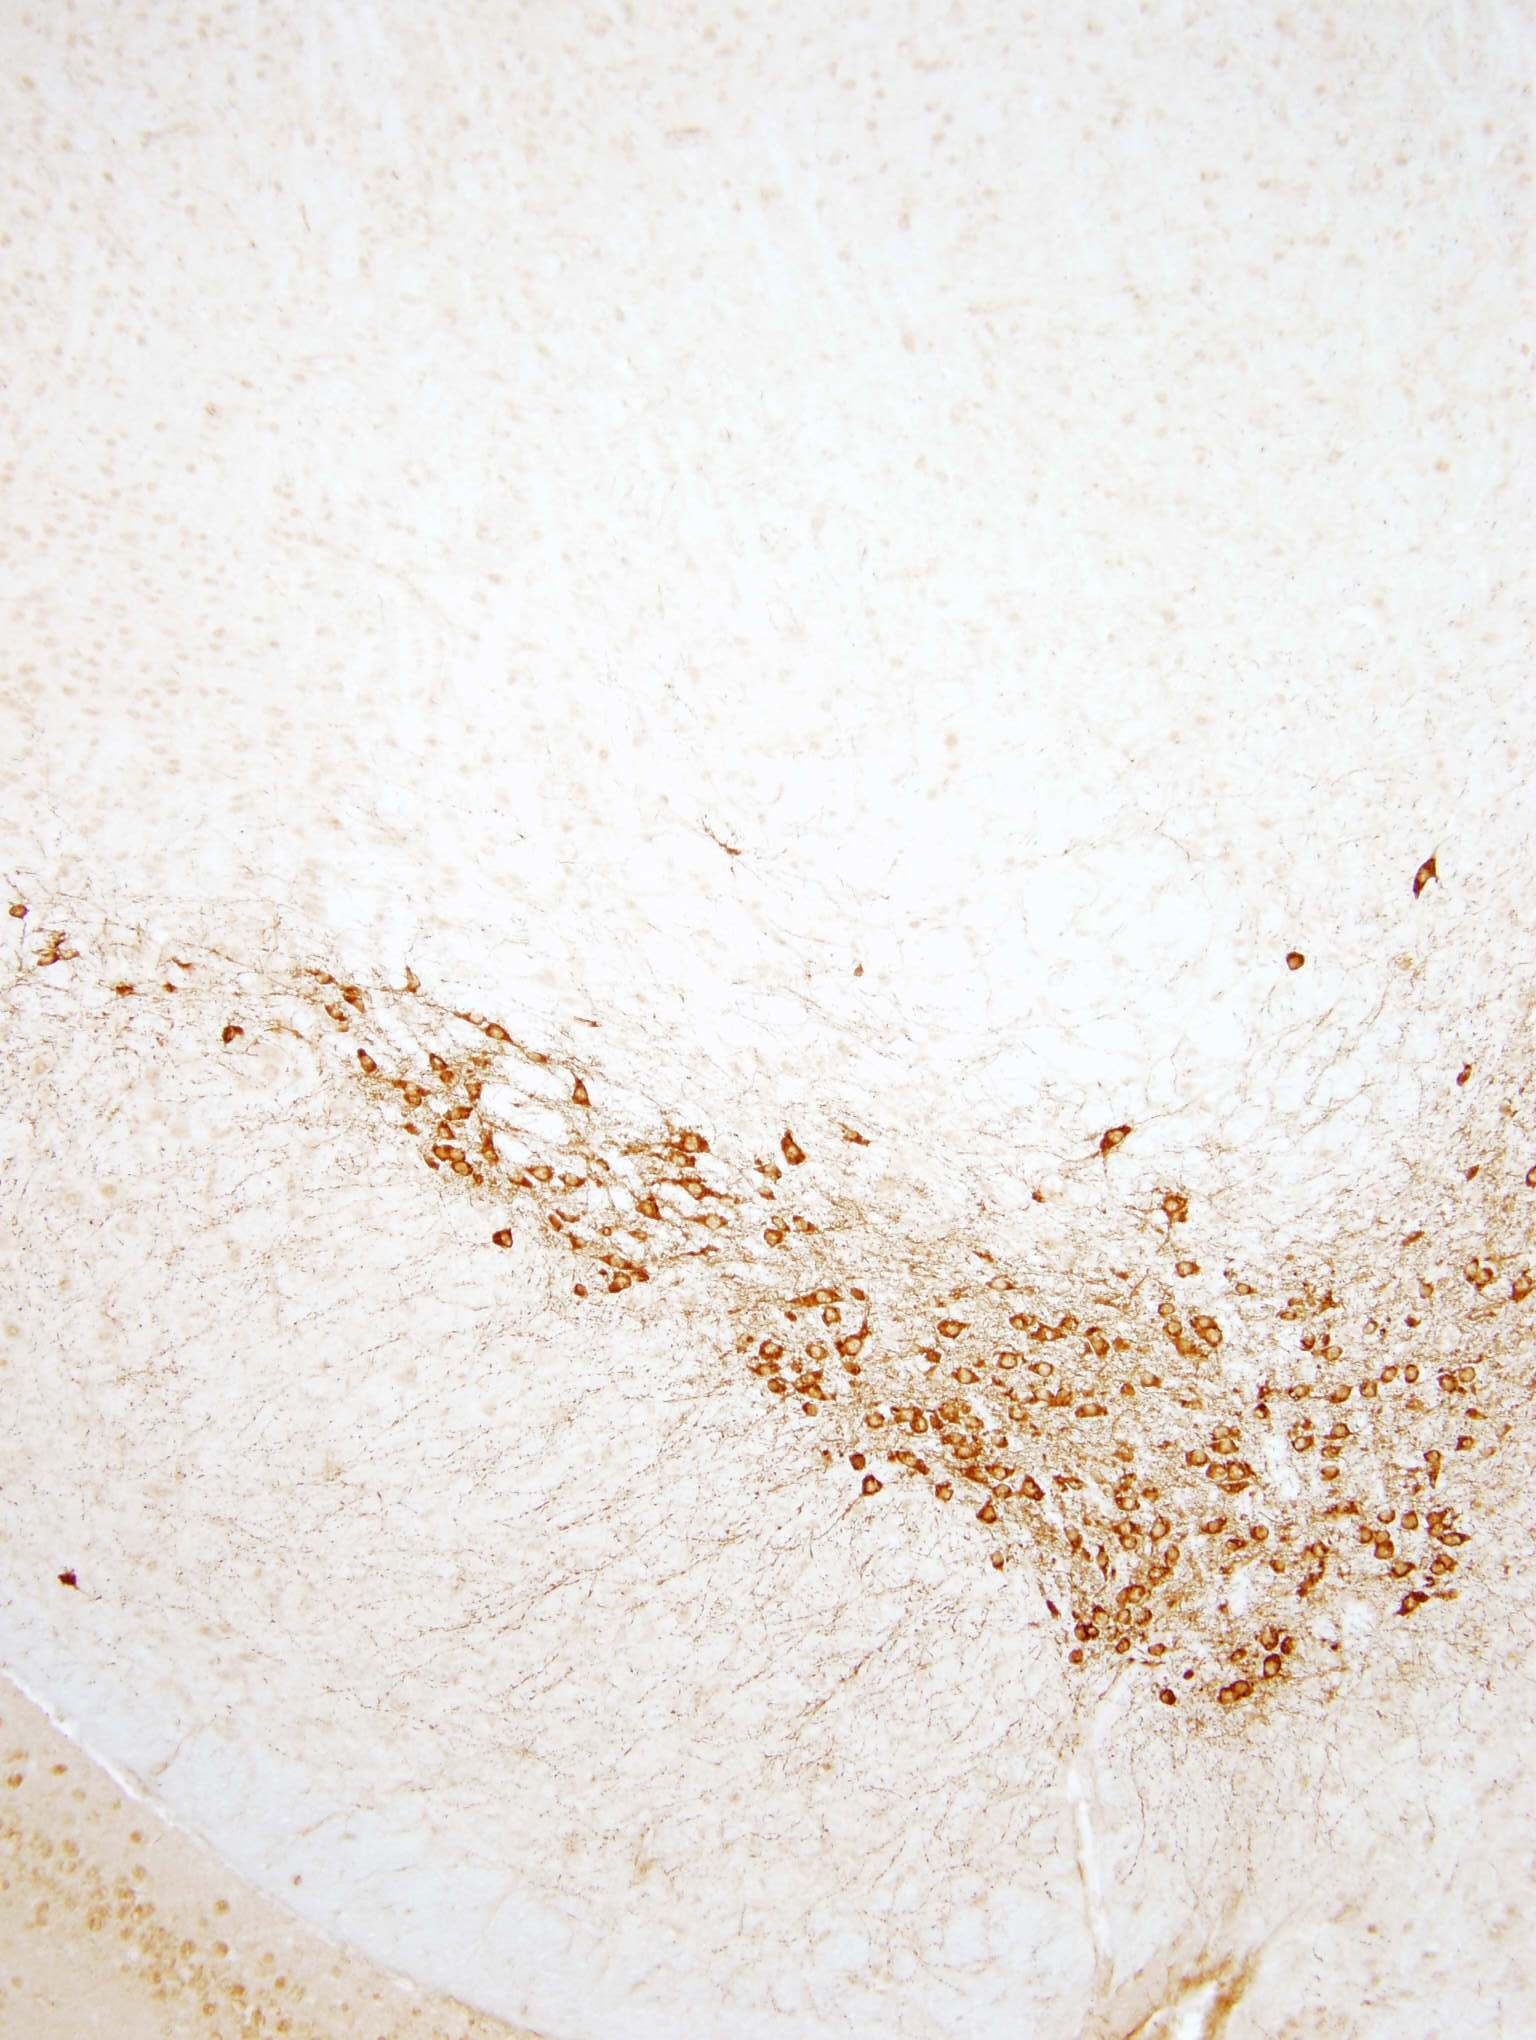neuron: (1402, 855, 1450, 903), (1083, 1326, 1120, 1363), (1083, 1543, 1120, 1580), (558, 1164, 595, 1201), (891, 1438, 928, 1476), (958, 1456, 995, 1493), (975, 1492, 1012, 1529), (984, 1264, 1021, 1301), (1002, 1301, 1037, 1338), (1015, 1472, 1050, 1509), (1052, 1301, 1087, 1338), (1055, 1522, 1092, 1558), (1062, 1647, 1097, 1684), (1100, 1630, 1136, 1667), (1108, 1437, 1146, 1472), (1108, 1484, 1146, 1519), (1117, 1577, 1154, 1613), (1137, 1561, 1175, 1597), (1170, 1251, 1205, 1289), (1189, 1306, 1225, 1343), (1246, 1521, 1283, 1556), (1249, 1617, 1284, 1655), (1258, 1555, 1296, 1590), (1278, 943, 1313, 980), (1297, 1537, 1334, 1572), (1370, 1542, 1405, 1579), (444, 1097, 479, 1134), (444, 1145, 481, 1180), (486, 1227, 521, 1264), (523, 1155, 558, 1192), (663, 1143, 699, 1180), (678, 1172, 713, 1209), (695, 1201, 733, 1237), (758, 1372, 794, 1409), (781, 1134, 816, 1171), (839, 1442, 874, 1479), (850, 1472, 887, 1508), (899, 1414, 936, 1450), (936, 1309, 971, 1347), (936, 1388, 971, 1426), (987, 1472, 1025, 1508), (1026, 1321, 1062, 1356), (1052, 1472, 1087, 1508), (1104, 1121, 1139, 1156), (1129, 1600, 1165, 1635), (1141, 1516, 1176, 1551), (1158, 1192, 1194, 1227), (1163, 1537, 1199, 1572), (1194, 1503, 1229, 1538), (1255, 1651, 1291, 1687), (1391, 1558, 1426, 1593), (1396, 1585, 1431, 1621), (1423, 1555, 1459, 1590), (347, 1047, 382, 1082), (395, 968, 431, 1003), (473, 1142, 508, 1177), (5, 893, 40, 929), (636, 1193, 671, 1229), (681, 1121, 716, 1156), (857, 1405, 892, 1440), (895, 1390, 931, 1426), (915, 1342, 950, 1377), (928, 1485, 963, 1521), (947, 1363, 983, 1398), (981, 1450, 1016, 1485), (991, 1345, 1026, 1380), (1007, 1406, 1031, 1430), (1081, 1401, 1105, 1426), (1089, 1605, 1113, 1629), (1113, 1609, 1137, 1634), (1115, 1516, 1139, 1540), (1120, 1380, 1144, 1405), (1137, 1485, 1162, 1509), (1149, 1640, 1173, 1664), (1155, 1693, 1179, 1717), (1157, 1297, 1181, 1321), (115, 979, 139, 1003), (1187, 1448, 1212, 1472), (1207, 1461, 1231, 1485), (1208, 1326, 1233, 1350), (1217, 1443, 1241, 1468), (1218, 1690, 1242, 1714), (1223, 1534, 1247, 1558), (1226, 1648, 1250, 1672), (1233, 1680, 1257, 1705), (1250, 1403, 1275, 1427), (1279, 1306, 1304, 1330), (1291, 1414, 1315, 1438), (1294, 1434, 1318, 1458), (1296, 1276, 1320, 1300), (1296, 1335, 1320, 1359), (1309, 1327, 1333, 1351), (1321, 1466, 1346, 1490), (1323, 1443, 1347, 1468), (1328, 1385, 1352, 1409), (1331, 1426, 1355, 1450), (1338, 1501, 1362, 1526), (1357, 1382, 1381, 1406), (1362, 1316, 1386, 1340), (1376, 1505, 1400, 1529), (1379, 1366, 1404, 1390), (1400, 1230, 1425, 1255), (1400, 1364, 1425, 1388), (1402, 1313, 1426, 1337), (1417, 1282, 1441, 1306), (1425, 1448, 1449, 1472), (1439, 1374, 1463, 1398), (1457, 1435, 1481, 1459), (1460, 1363, 1484, 1387), (1475, 1269, 1499, 1293), (221, 1026, 245, 1050), (313, 964, 337, 989), (37, 948, 61, 972), (424, 1050, 449, 1074), (434, 1122, 458, 1147), (437, 1069, 461, 1093), (487, 1022, 511, 1047), (503, 1172, 528, 1197), (558, 1200, 582, 1224), (568, 1230, 592, 1255), (570, 1089, 594, 1113), (570, 1280, 594, 1305), (608, 1250, 632, 1274), (611, 1276, 636, 1300), (631, 1229, 655, 1253), (631, 1266, 655, 1290), (753, 1187, 778, 1211), (760, 1161, 784, 1185), (760, 1227, 784, 1251), (792, 1214, 816, 1239), (792, 1374, 816, 1398), (813, 1285, 837, 1309), (823, 1306, 847, 1330), (842, 1335, 866, 1359), (962, 1411, 986, 1435), (989, 1551, 1013, 1576), (1033, 1358, 1055, 1382), (1033, 1384, 1055, 1408), (1083, 1617, 1105, 1642), (1117, 1534, 1141, 1556), (1142, 1371, 1167, 1393), (1163, 1321, 1187, 1343), (1226, 1463, 1250, 1485), (1233, 1277, 1255, 1301), (1283, 1637, 1305, 1661), (1325, 1347, 1347, 1371), (1400, 1513, 1425, 1535), (1462, 1259, 1484, 1284), (1467, 1406, 1489, 1430), (1512, 1277, 1534, 1301), (324, 1005, 349, 1027), (340, 984, 365, 1006), (466, 1084, 490, 1106), (48, 926, 73, 948), (544, 1211, 566, 1235), (58, 947, 82, 969), (771, 1213, 795, 1235), (799, 1403, 821, 1427), (844, 1126, 868, 1148), (991, 1430, 1013, 1455), (1212, 1421, 1234, 1443), (1291, 1384, 1313, 1406), (807, 1342, 829, 1364)
